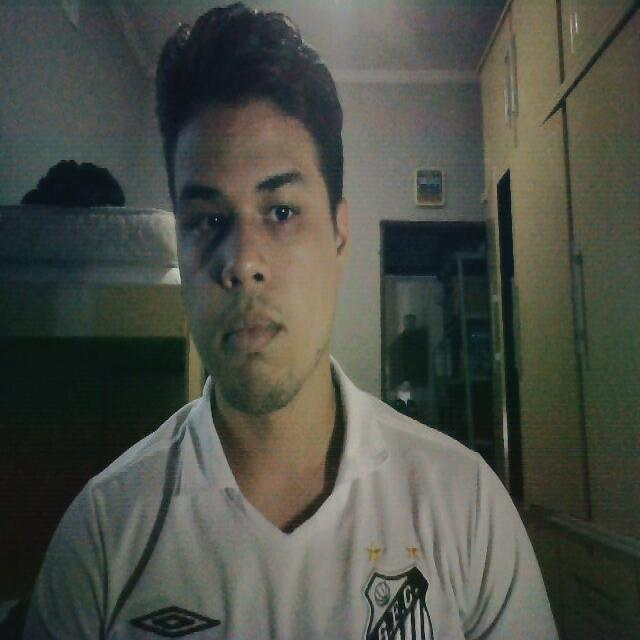acordado: (165, 95, 347, 398)
